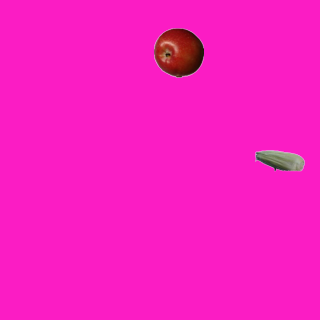Apple Braeburn: (153, 27, 203, 77)
Corn Husk: (254, 135, 304, 185)
